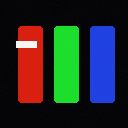3 line_h: (16, 41, 36, 47)
